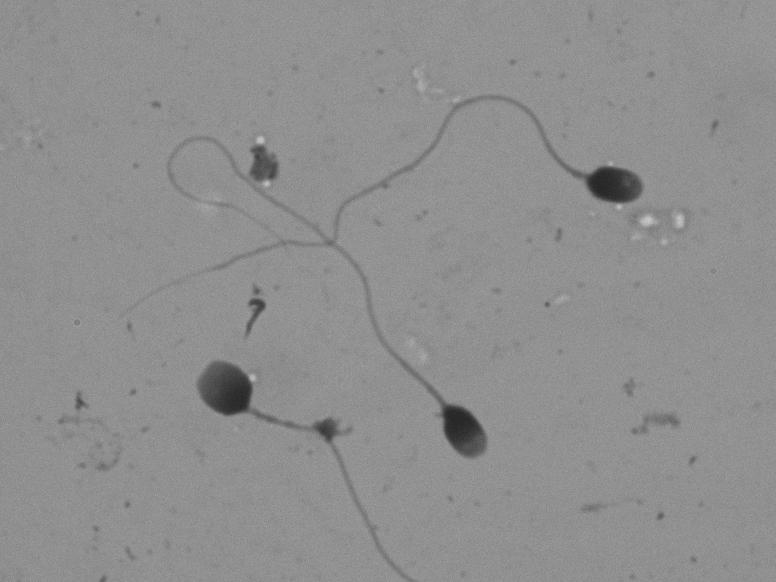Abnormal: (115, 345, 404, 563)
Normal: (93, 61, 683, 315), (352, 71, 519, 475)
